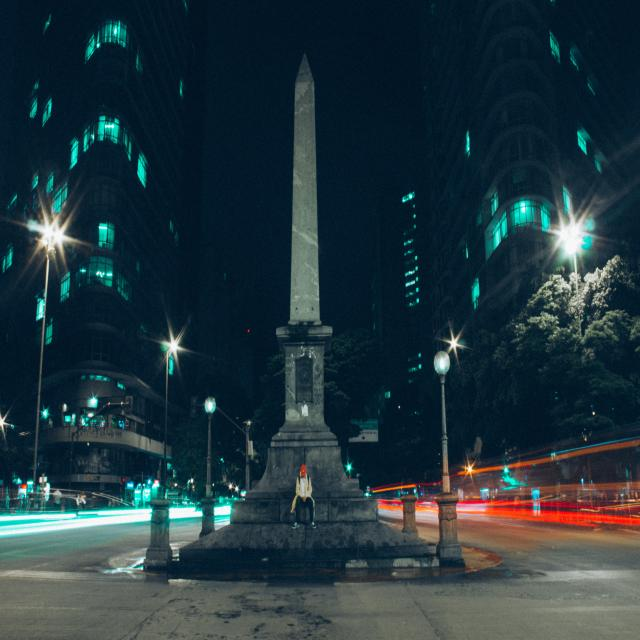Street Light: (562, 223, 598, 513), (31, 231, 68, 507), (163, 340, 179, 499)
